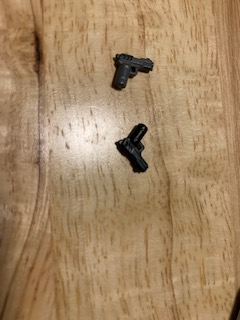pistol: (115, 121, 153, 179), (107, 51, 157, 92)
